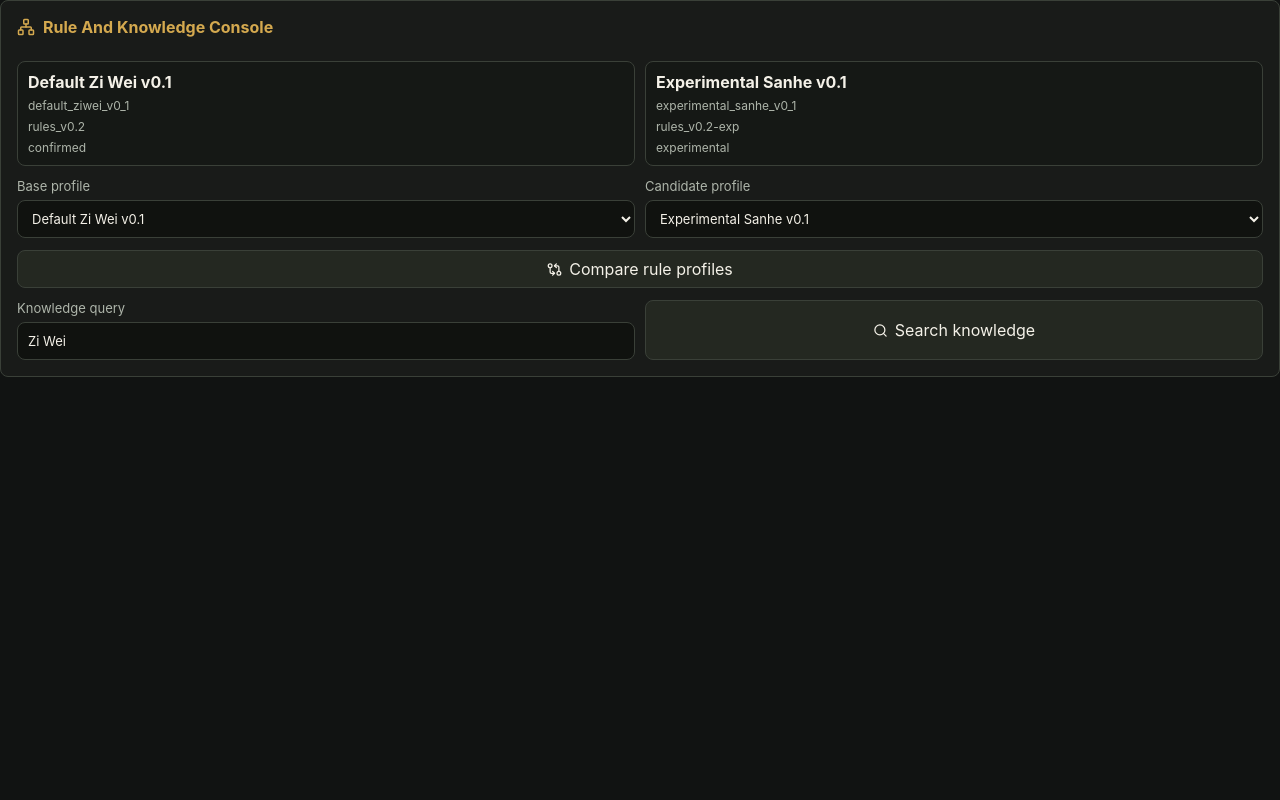
Scenario: phase 11 rule knowledge panel › compares rule profiles, searches knowledge, opens a node, and hides sensitive birth input
Click the button "Compare rule profiles" at (640, 269), box [17, 250, 1263, 288]
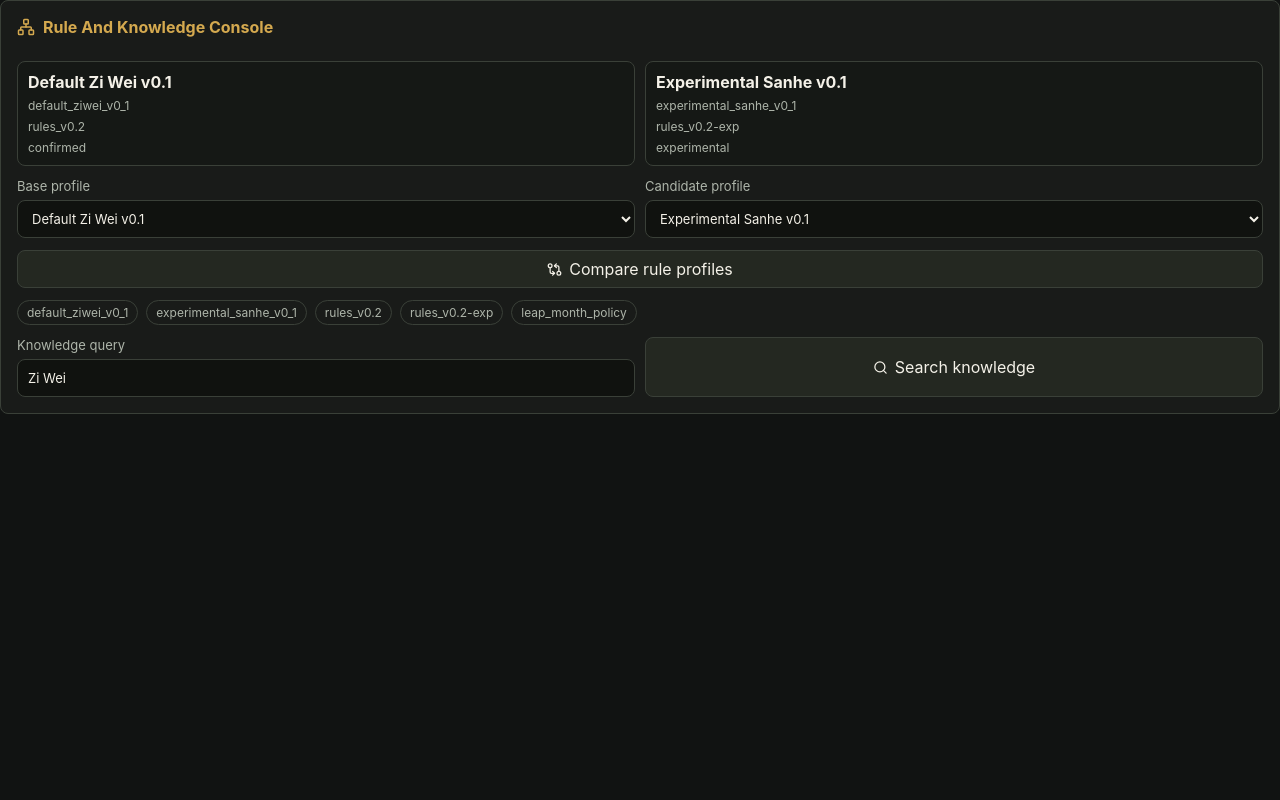
Now the text "leap_month_policy" is shown, box [511, 300, 637, 325]
Replace the text in the field labelled "Knowledge query" with "Zi Wei 2000-08-16 03:30 Shanghai" at (326, 378), box [17, 359, 635, 397]
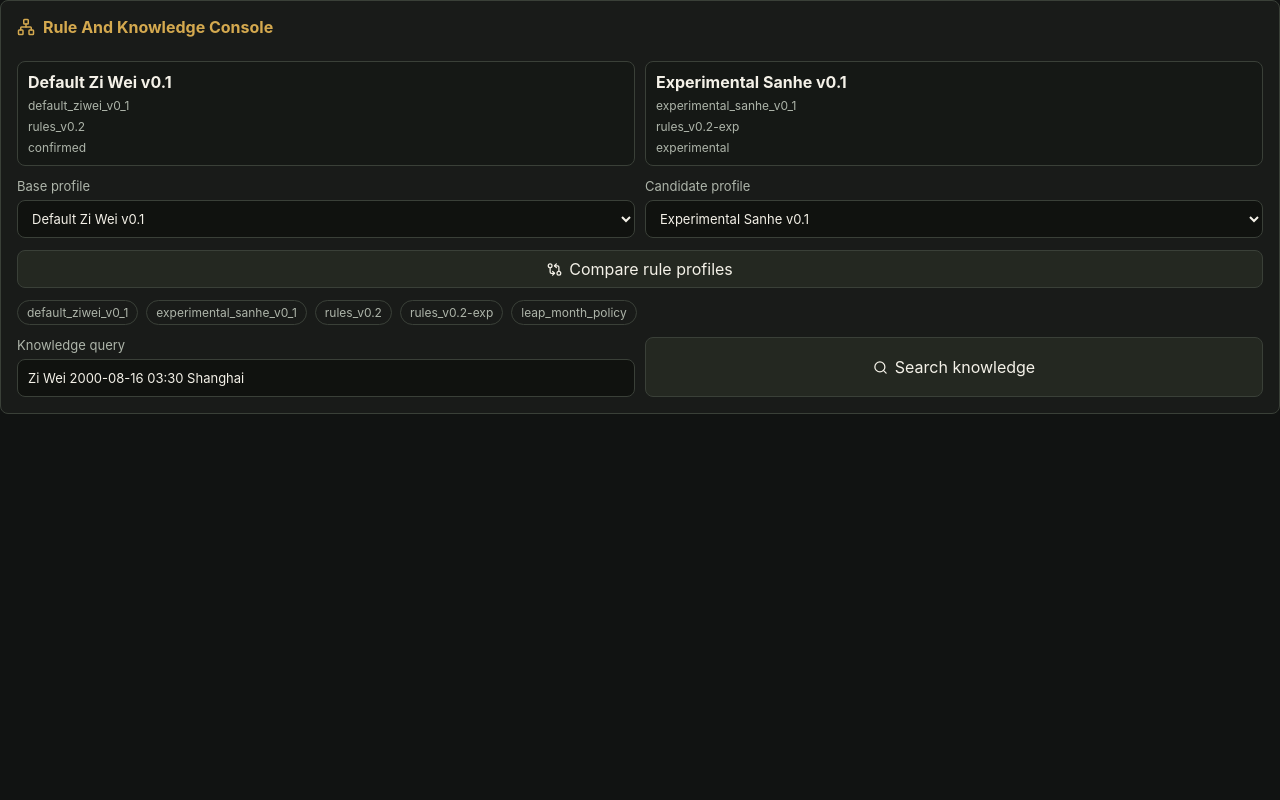
Click the button "Search knowledge" at (954, 367), box [645, 337, 1263, 397]
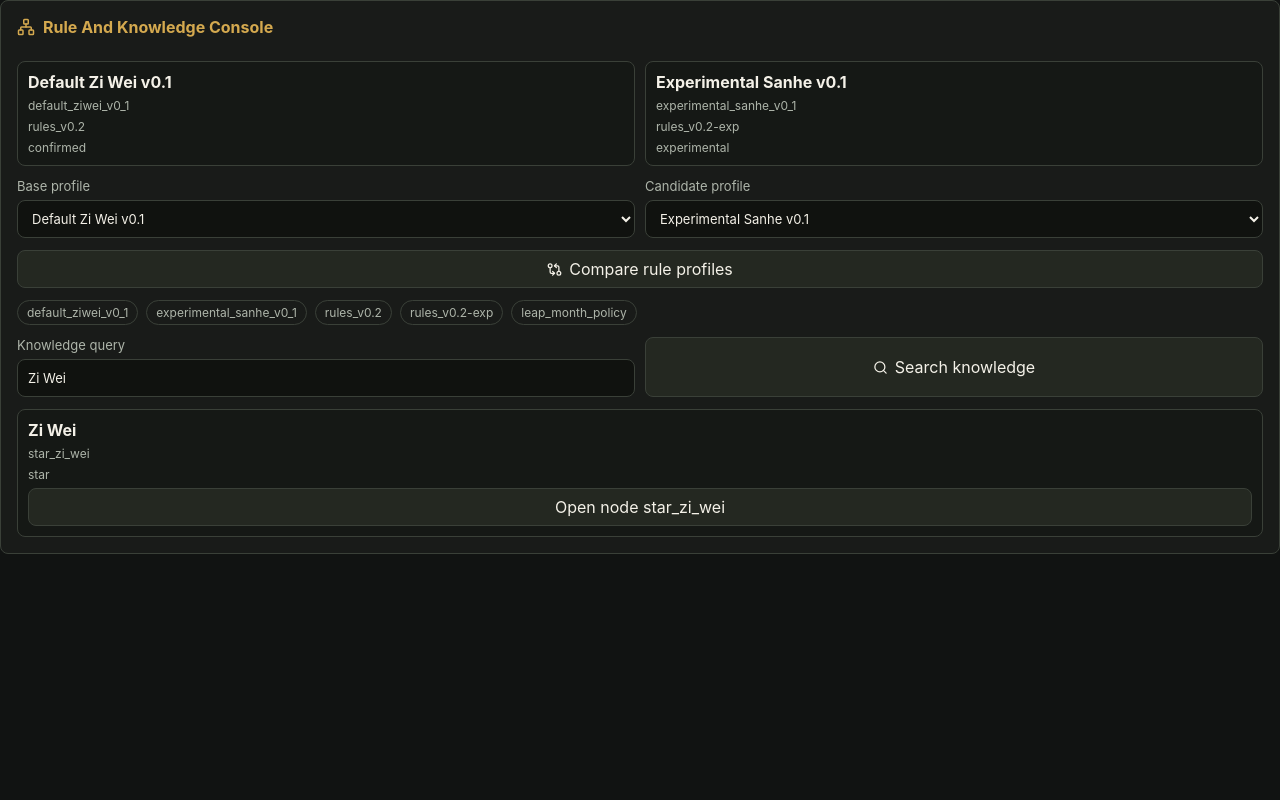
Now the text "star_zi_wei" is shown, box [28, 446, 90, 461]
Click the button "Open node star_zi_wei" at (640, 507), box [28, 488, 1252, 526]
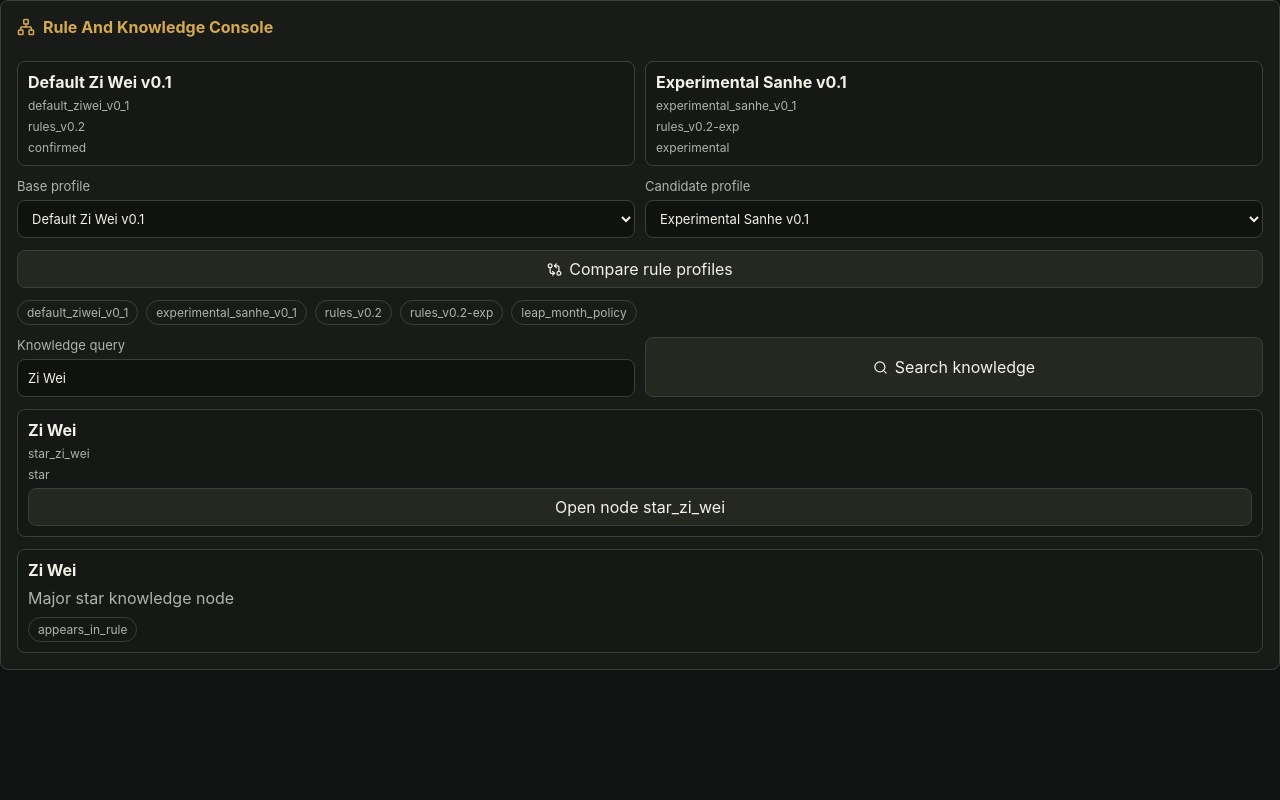
Expected: the text "2000-08-16" is not shown
Now the text "appears_in_rule" is shown, box [28, 617, 137, 642]
